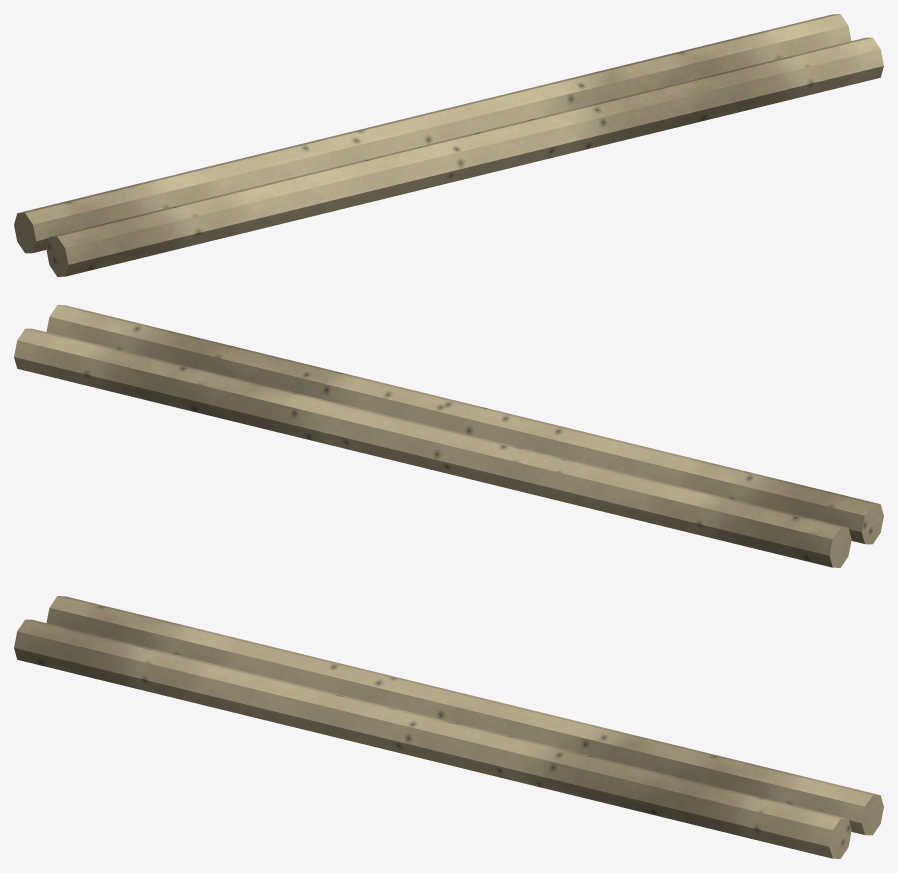
The model's file is CeliningLight.001.fbx.
3 renders of one model, top to bottom at view 1: azimuth 30°, elevation 25°; view 2: azimuth 150°, elevation 25°; view 3: azimuth 330°, elevation 25°, orthographic.
Parts seen in each view (by area): view 1: CeliningLight.001; view 2: CeliningLight.001; view 3: CeliningLight.001.
Part boxes in pixels (x1,y1,x2,y2): CeliningLight.001: (14, 14, 883, 276); CeliningLight.001: (14, 305, 883, 567); CeliningLight.001: (14, 596, 883, 858).
Bounding box in the file's own units: 1.33 × 0.0627 × 0.1539.
1 material, 1 textured.
